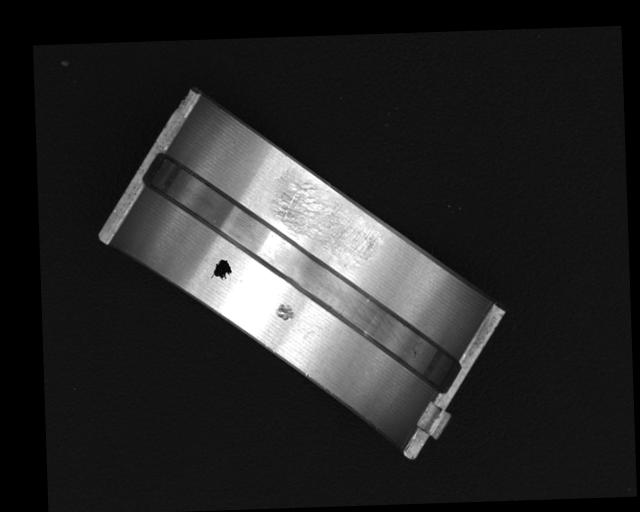blot: (209, 258, 233, 282)
bruise: (274, 302, 295, 323)
gap: (149, 143, 459, 401)
scratch: (272, 180, 378, 272)
